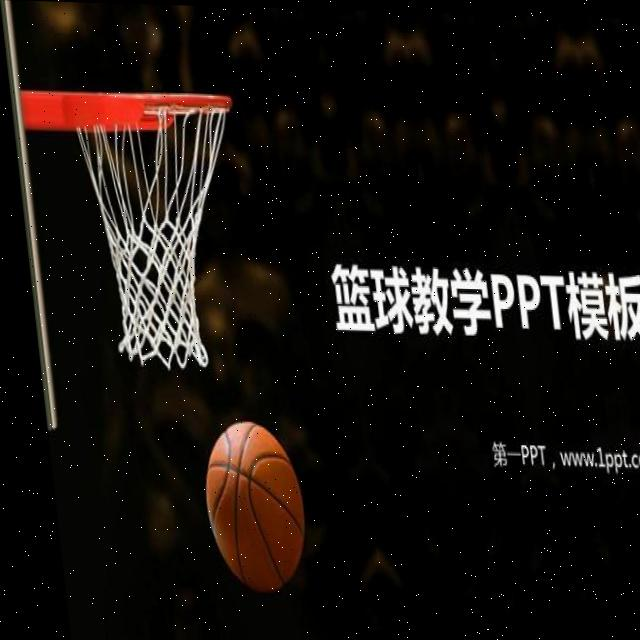basketball: (198, 420, 313, 597)
hoop: (64, 88, 263, 376)
